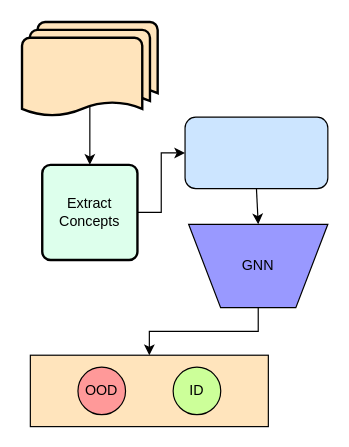
Image size: 349x447. Some labels were removed from this diagram. Each missing label, with the centre of its shape:
Building a bipartite graph: point 256,152
Documents: point 89,69
